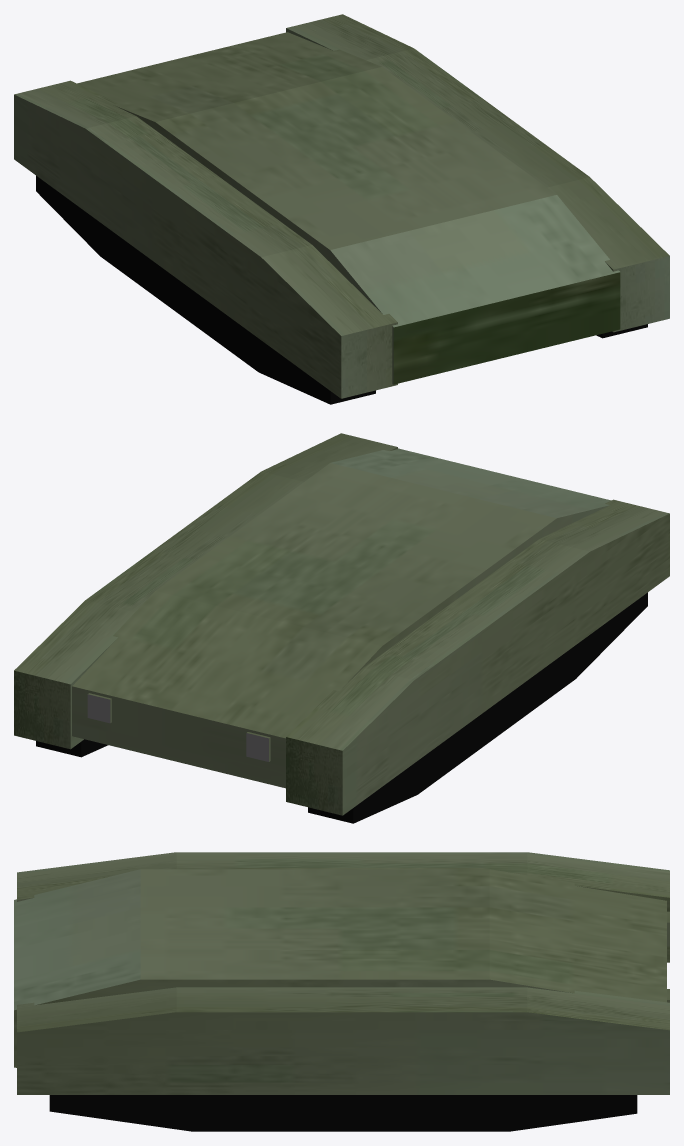
The model's file is tankbase.glb.
The picture shows the model from 3 angles, top to bottom: view 1: azimuth 30°, elevation 25°; view 2: azimuth 150°, elevation 25°; view 3: azimuth 270°, elevation 25°; orthographic projection.
Parts seen in each view (by area): view 1: Cube.007, Cube.004; view 2: Cube.007, Cube.004; view 3: Cube.004, Cube.007.
Part boxes in pixels (x1,y1,x2,y2): Cube.007: [77, 32, 620, 384]; Cube.004: [14, 14, 669, 404]; Cube.007: [72, 448, 610, 788]; Cube.004: [14, 433, 669, 823]; Cube.004: [17, 852, 669, 1131]; Cube.007: [14, 869, 669, 1067].
Size of the model in its own units: 5.8 by 2.2 by 10.05.
Materials: 4 (3 with a texture image).
